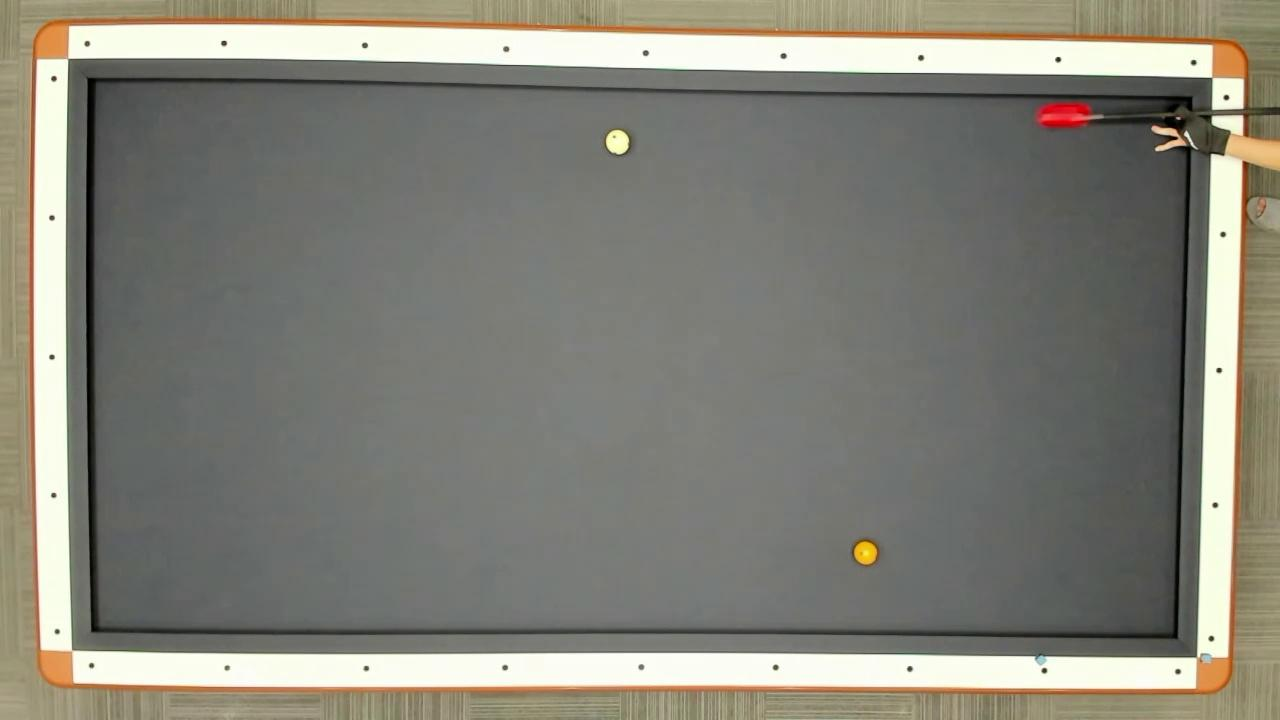Red: (1036, 101, 1092, 130)
White: (603, 127, 633, 158)
Yellow: (851, 538, 880, 569)
